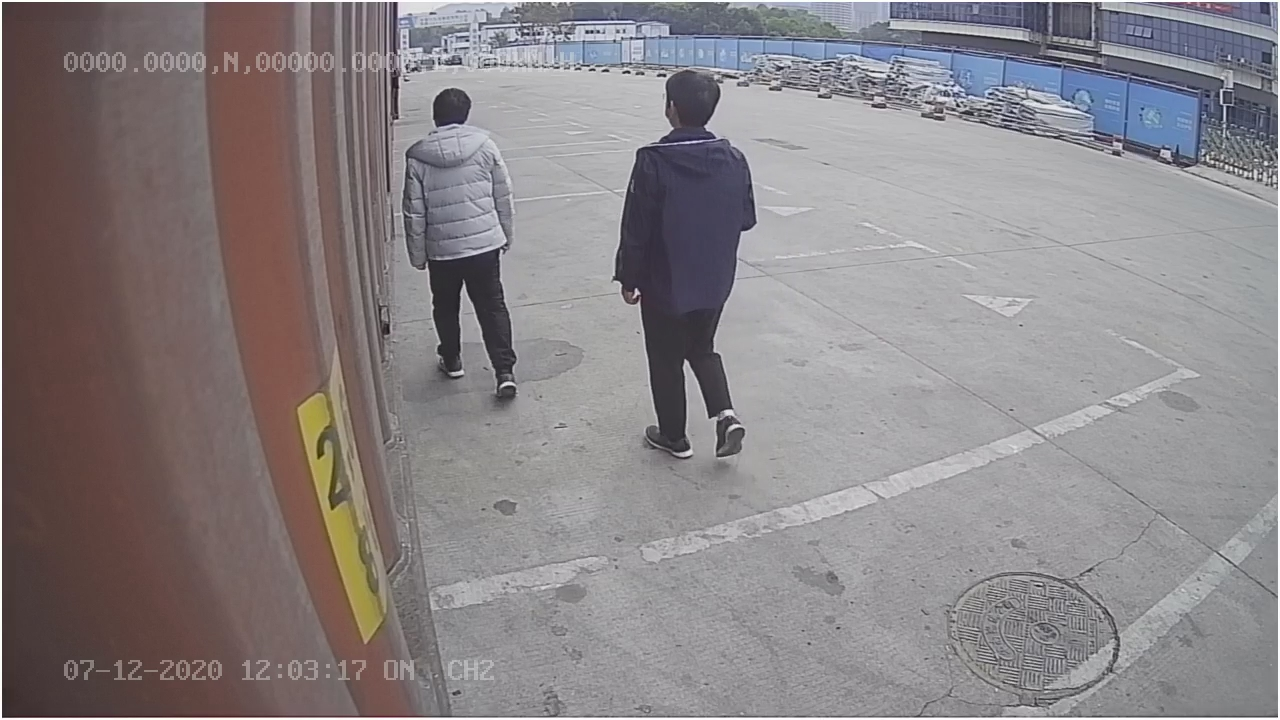person: (613, 67, 763, 468), (403, 84, 525, 399)
